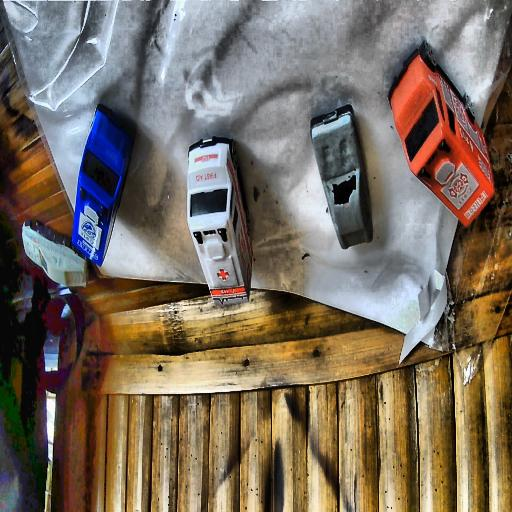ambulance: (184, 136, 254, 306)
fire_truck: (390, 45, 494, 225)
normal_car: (309, 107, 373, 251), (21, 218, 90, 286)
police car: (71, 106, 136, 270)
